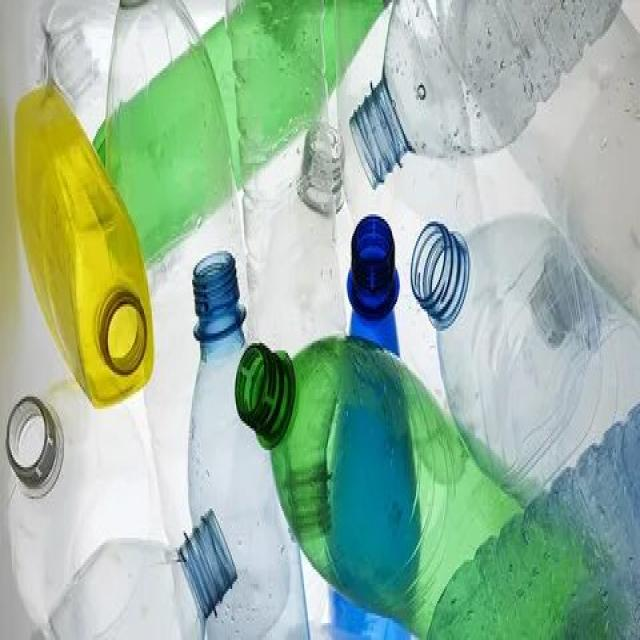blue: (411, 214, 640, 586), (188, 255, 309, 640)
green: (235, 337, 626, 640)
